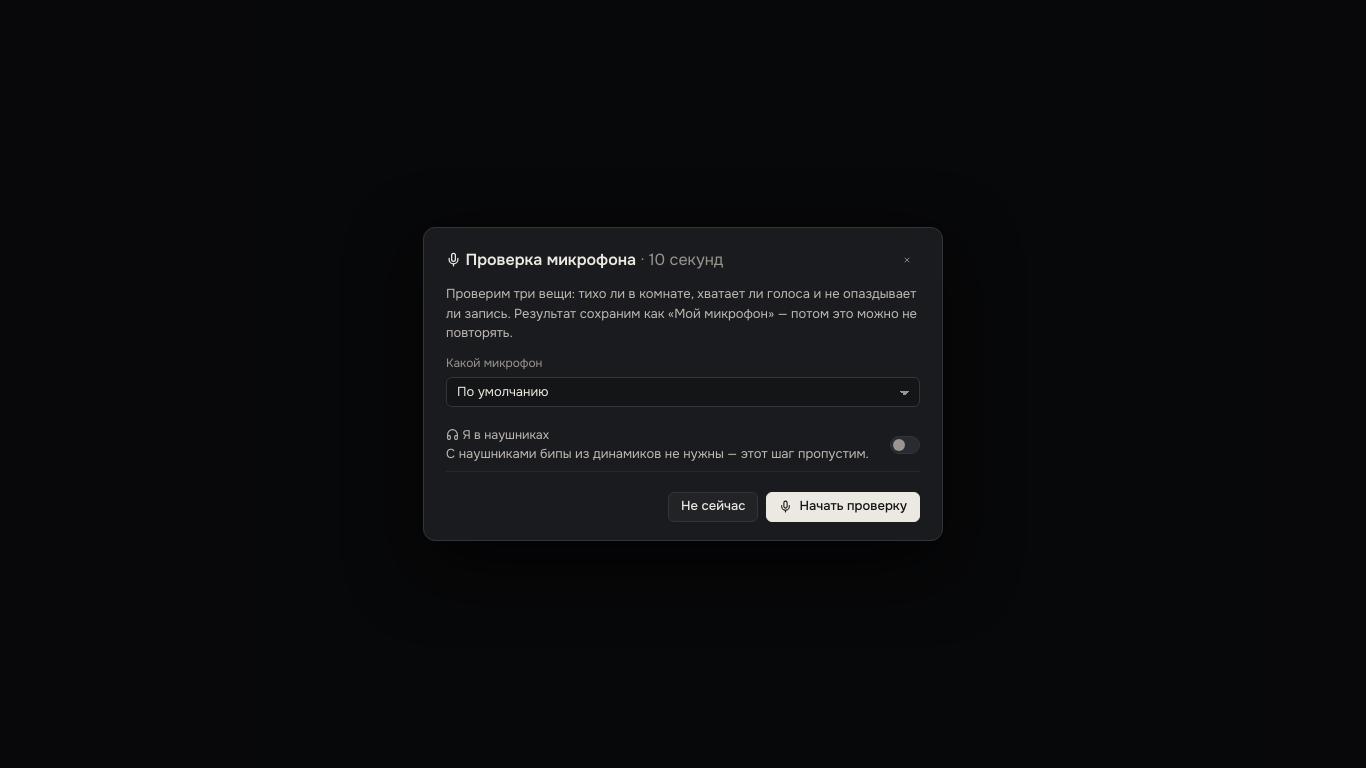
Scenario: мастер проверки микрофона › тихий голос → совет «придвинься ближе»
This screenshot has width=1366, height=768.
Click the button "Начать проверку".
click(843, 507)  # box top-left (766, 492), bottom-right (920, 522)
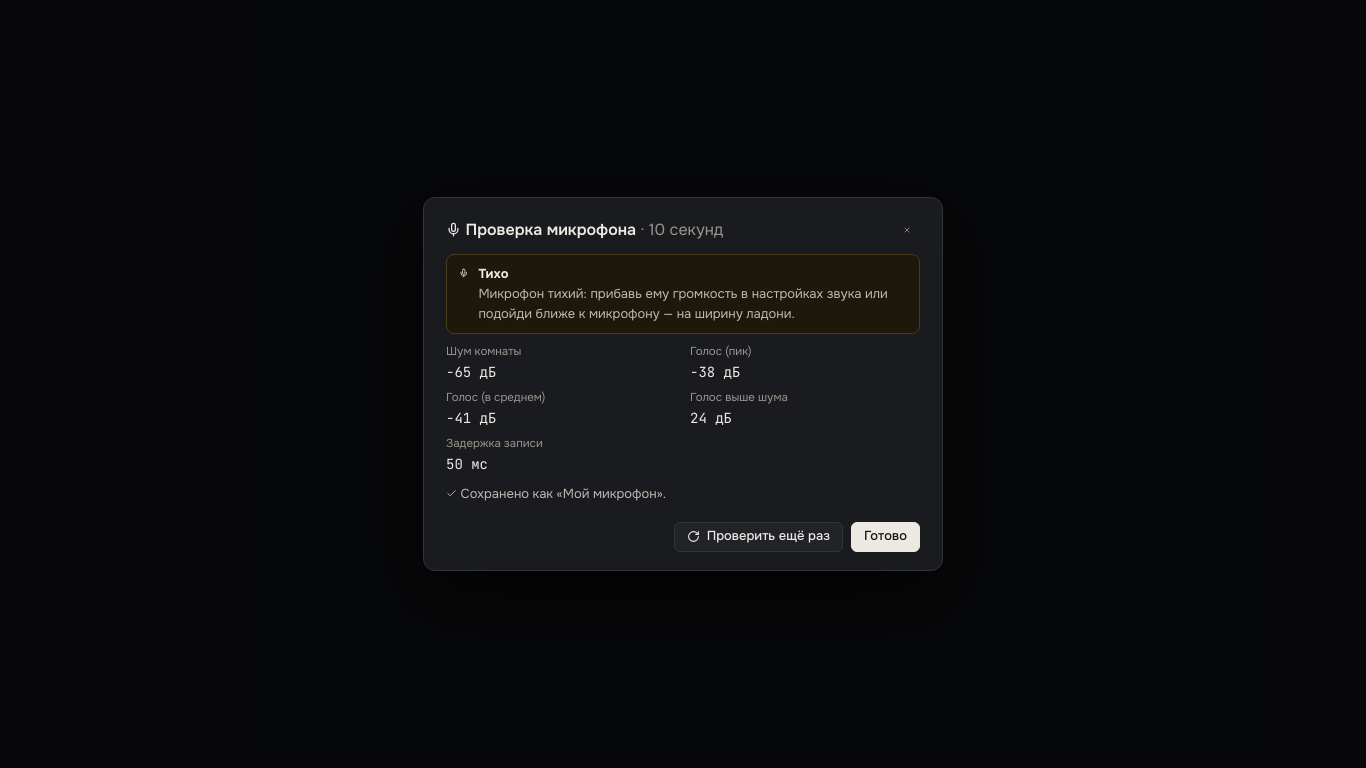
Expected: the element with test id "mic-result" shows "Тихо", top-left (478, 265), bottom-right (508, 282)
Expected: the element with test id "mic-result" shows "ближе к микрофону", top-left (478, 285), bottom-right (888, 322)
